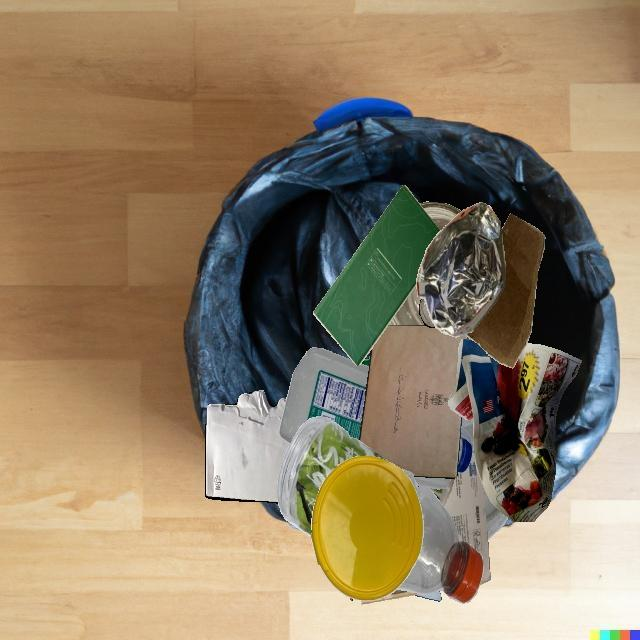cardboard: (466, 213, 545, 369)
glass: (420, 212, 468, 337), (419, 299, 436, 328)
metal: (416, 202, 506, 337)
paper: (448, 339, 582, 522), (313, 185, 440, 366), (359, 325, 468, 478), (205, 390, 290, 503), (444, 453, 491, 585), (427, 478, 454, 507), (414, 591, 441, 601)
plastic: (310, 456, 423, 600), (277, 416, 390, 536), (397, 467, 483, 604), (279, 347, 369, 444), (484, 488, 508, 540), (460, 428, 474, 453), (461, 416, 473, 443), (361, 355, 370, 367)
